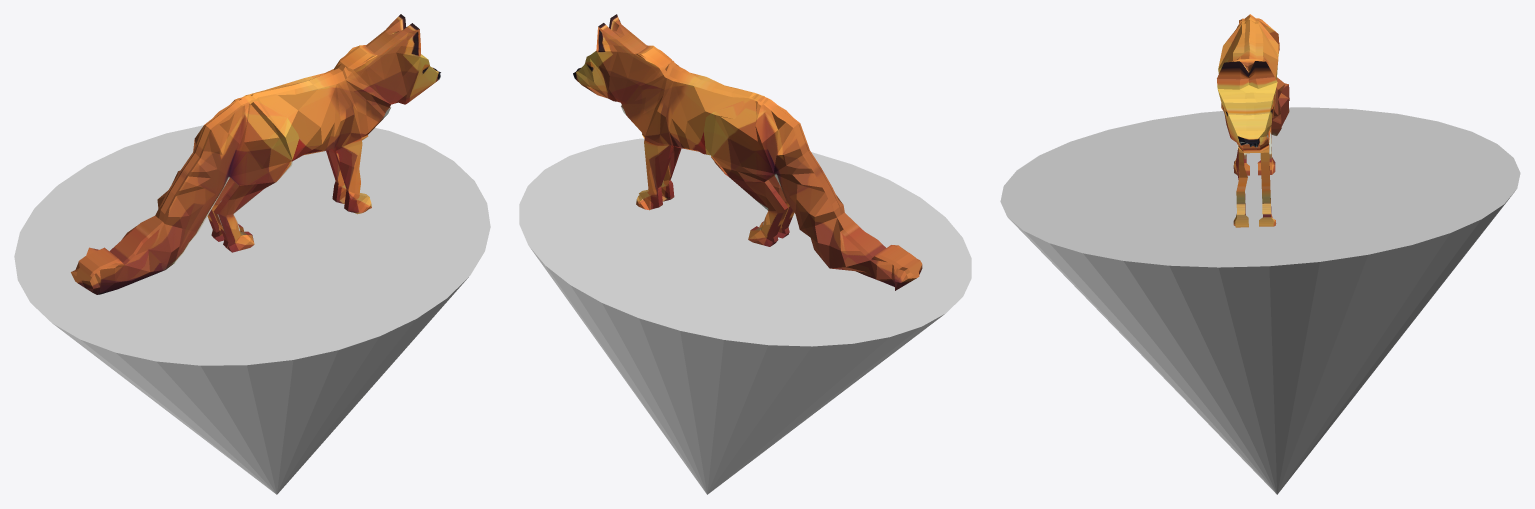
The model's file is clearfox.glb.
3 views of the same model, side by side, from view 1: azimuth 30°, elevation 25°; view 2: azimuth 150°, elevation 25°; view 3: azimuth 270°, elevation 25° (orthographic). The views are drawn at different scales.
Parts seen in each view (by area): view 1: Plane.001; view 2: Plane.001; view 3: Plane.001.
Part boxes in pixels (box(x1,y1,x2,y2)): Plane.001: box(14, 14, 490, 494); Plane.001: box(519, 14, 971, 494); Plane.001: box(1000, 14, 1520, 494).
Size of the model in its own units: 1.98 by 2.1 by 2.
Materials: 2 (1 with a texture image).
